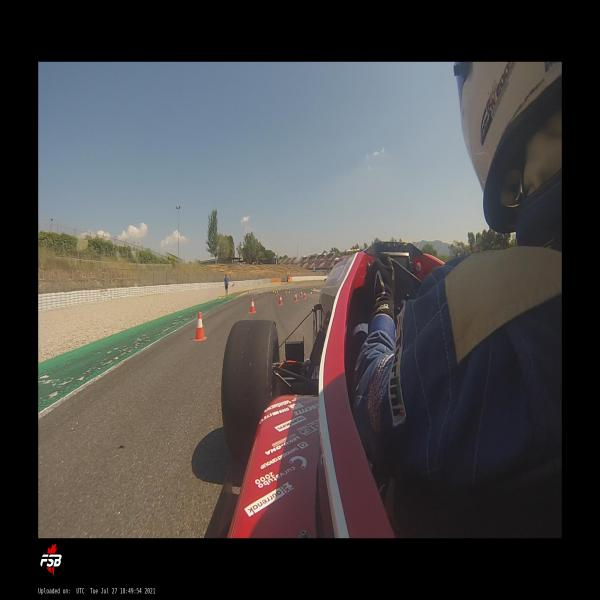orange_cone: (193, 312, 206, 341), (249, 298, 256, 313), (278, 295, 283, 305), (294, 292, 297, 301), (303, 291, 306, 298), (285, 290, 287, 296), (300, 291, 302, 296)
yellow_cone: (310, 289, 312, 294), (288, 289, 290, 294)
